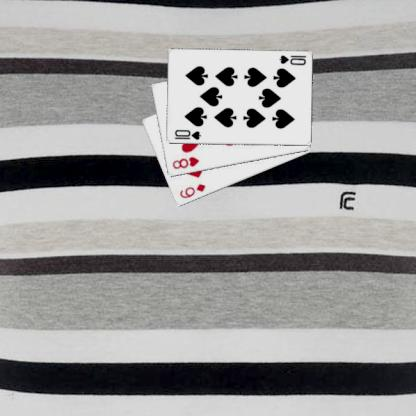10S: (276, 52, 307, 66), (172, 128, 202, 142)
6D: (176, 181, 206, 200)
8H: (170, 154, 200, 171)
